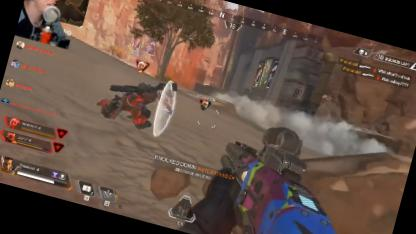Target: (102, 66, 174, 135)
